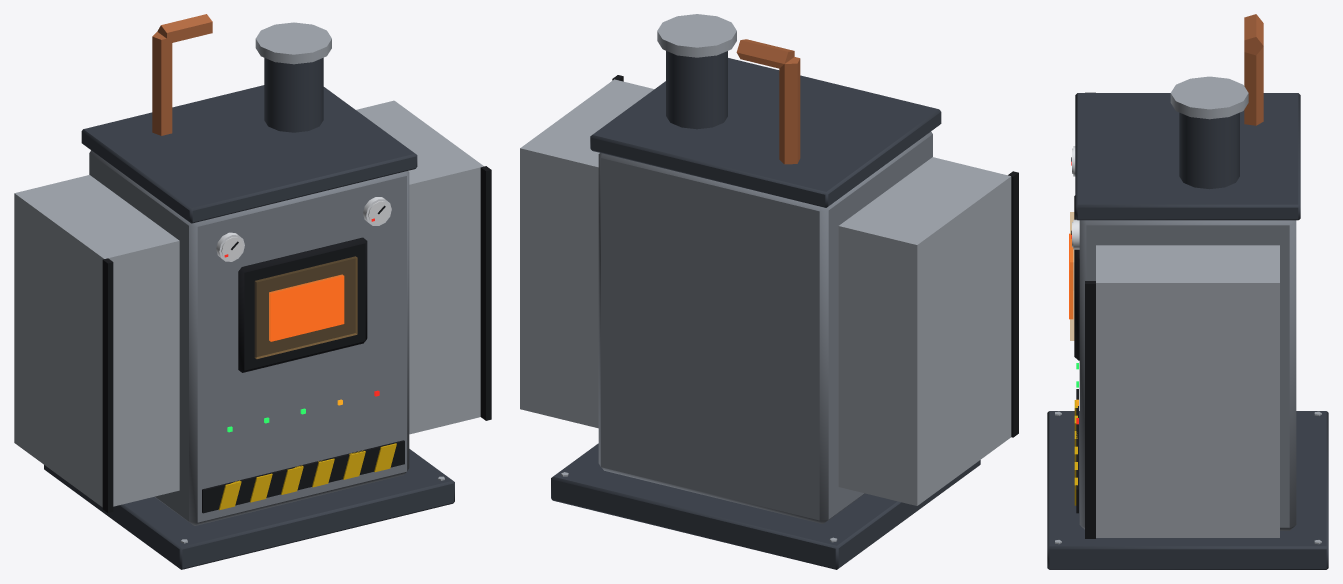
Rendered from reactor_auxiliary_reactor.glb.
3 renders of one model, left to right at view 1: azimuth 30°, elevation 25°; view 2: azimuth 150°, elevation 25°; view 3: azimuth 270°, elevation 25°, orthographic. The views are drawn at different scales.
Parts seen in each view (by area): view 1: reactor_auxiliary_reactor; view 2: reactor_auxiliary_reactor; view 3: reactor_auxiliary_reactor.
Boxes of the visible parts, x1,y1,x2,y2 form: reactor_auxiliary_reactor: (14, 14, 491, 569); reactor_auxiliary_reactor: (520, 14, 1018, 569); reactor_auxiliary_reactor: (1047, 14, 1328, 569).
Bounding box in the file's own units: 2.09 × 2.35 × 1.3.
